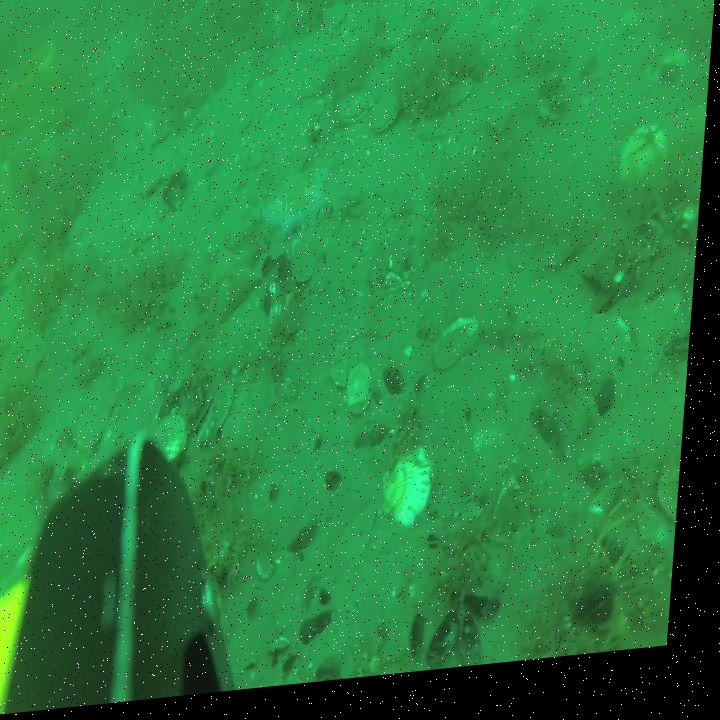scallop: (389, 452, 443, 540), (621, 139, 671, 199), (438, 325, 489, 380), (154, 416, 195, 481), (84, 392, 122, 457), (349, 369, 380, 427), (371, 97, 403, 146), (342, 98, 374, 134)
starfish: (197, 248, 269, 328), (264, 168, 336, 245)
